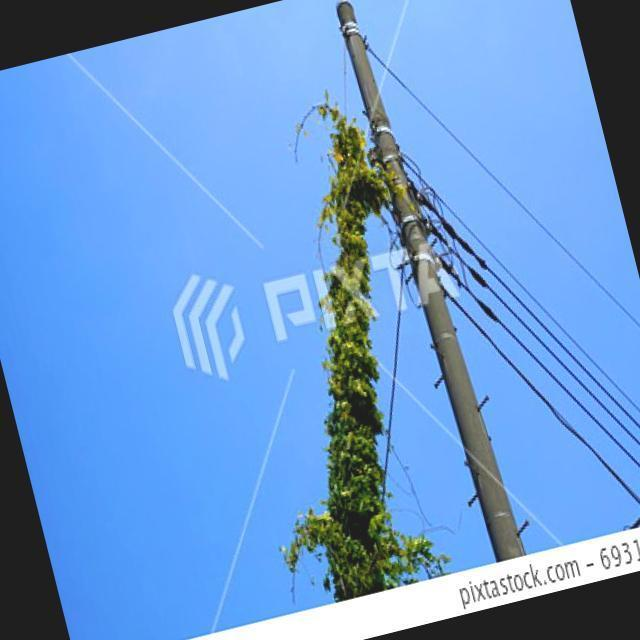critical vegetation: (208, 0, 585, 566)
